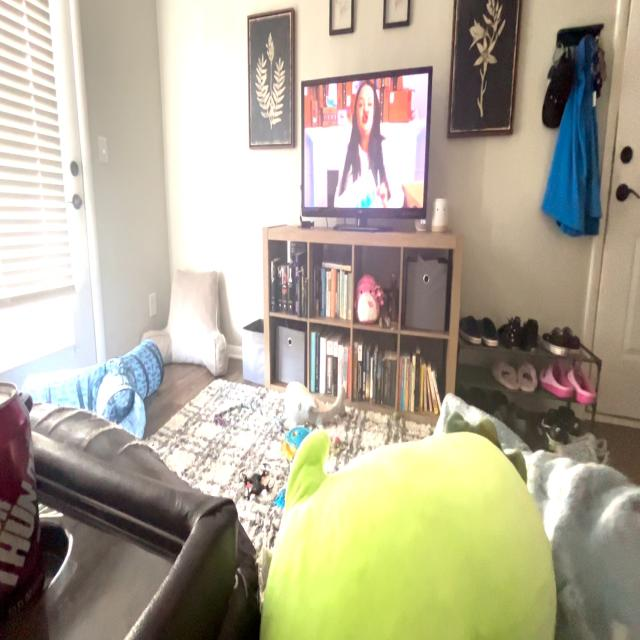drone: (232, 448, 282, 520)
